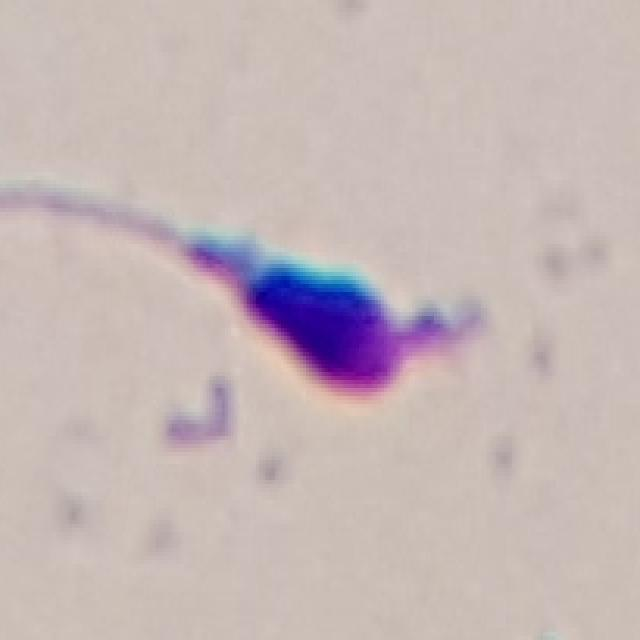abnormal sperm: (19, 183, 422, 419)
